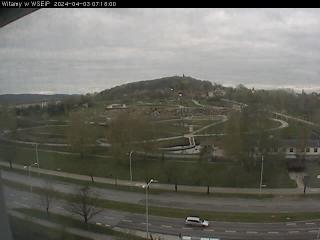car: (183, 216, 211, 228)
